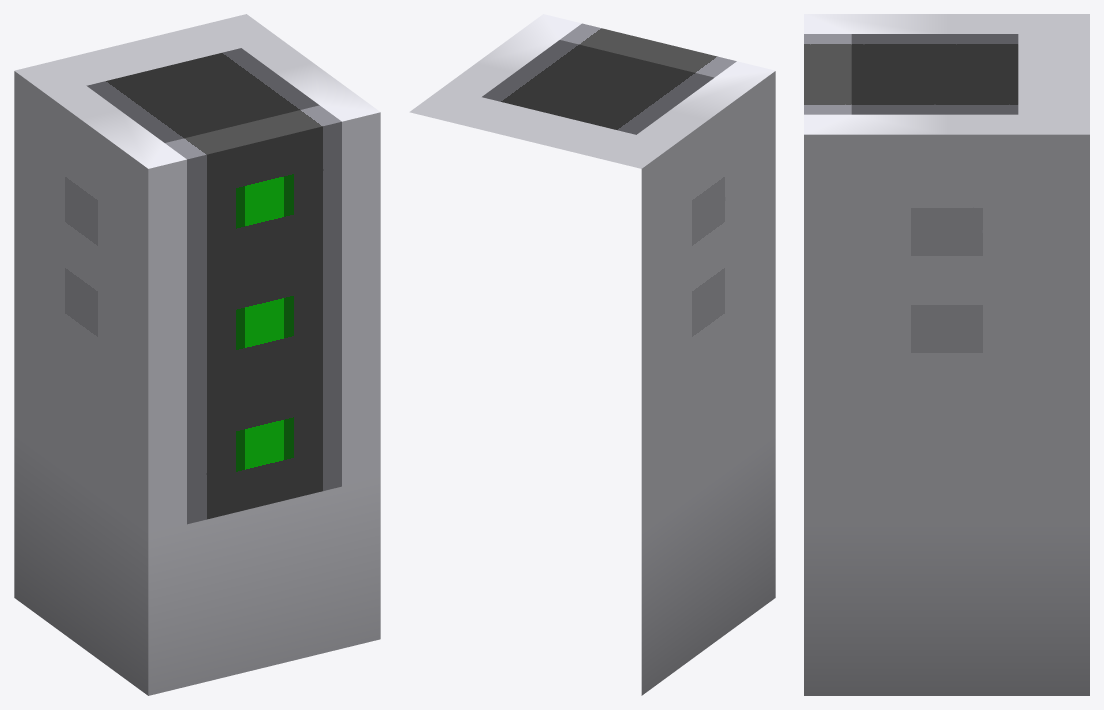
3 views of the same model, side by side, from view 1: azimuth 30°, elevation 25°; view 2: azimuth 150°, elevation 25°; view 3: azimuth 270°, elevation 25° (orthographic). The views are drawn at different scales.
Visible parts, largest first — view 1: machine_l01; view 2: machine_l01; view 3: machine_l01.
Boxes of the visible parts, x1,y1,x2,y2 form: machine_l01: (14,14,380,695); machine_l01: (409,14,775,695); machine_l01: (804,14,1089,695).
Bounding box in the file's own units: 0.75 × 1.62 × 0.75.
Materials: 2 (2 with a texture image).
